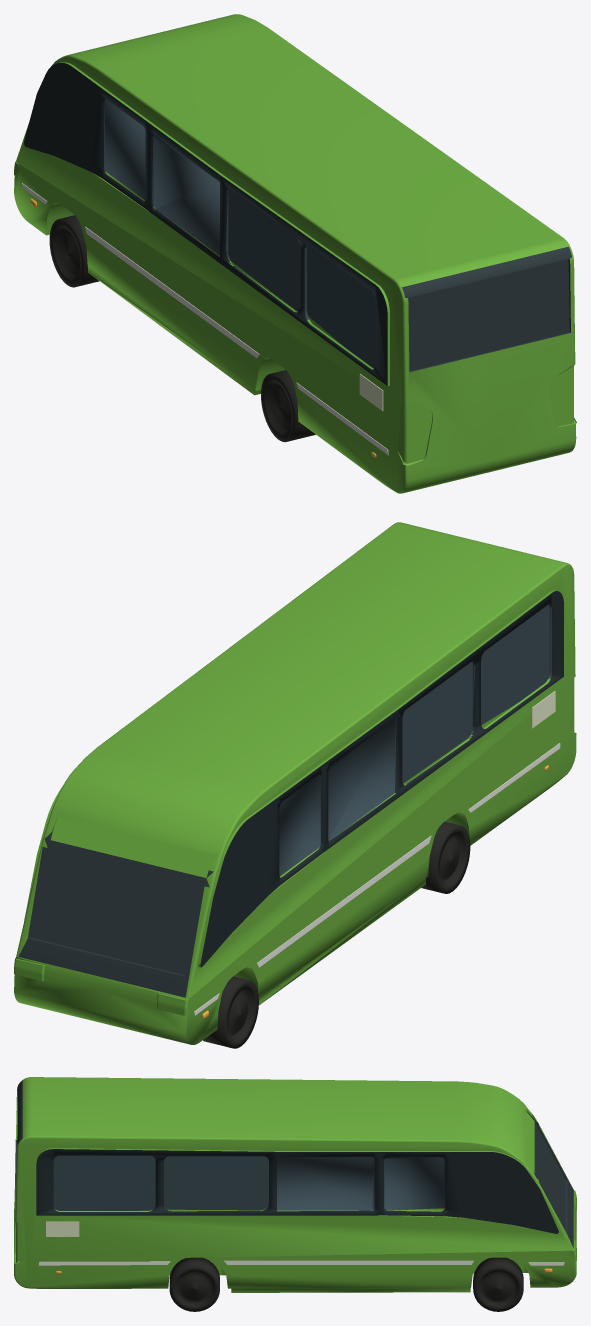
Rendered from mio_verde.glb.
3 views of the same model, one above another, from view 1: azimuth 30°, elevation 25°; view 2: azimuth 150°, elevation 25°; view 3: azimuth 270°, elevation 25° (orthographic). The views are drawn at different scales.
Parts seen in each view (by area): view 1: Cubo, Círculo.001, Plano.009; view 2: Cubo, Círculo.001, Plano.009; view 3: Cubo, Círculo.001, Plano.013, Plano.014.
Boxes of the visible parts, x1,y1,x2,y2 form: Cubo: (14, 14, 576, 493); Círculo.001: (49, 215, 315, 442); Plano.009: (22, 183, 388, 455); Cubo: (14, 522, 576, 1044); Círculo.001: (203, 821, 470, 1048); Plano.009: (194, 743, 560, 1015); Cubo: (14, 1077, 576, 1292); Círculo.001: (169, 1257, 523, 1311); Plano.013: (38, 1260, 564, 1265); Plano.014: (46, 1221, 79, 1236).
Bounding box in the file's own units: 4.69 × 6.18 × 18.05.
